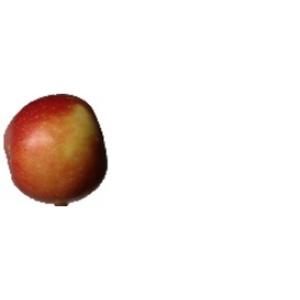maçã braeburn: (2, 91, 112, 209)
